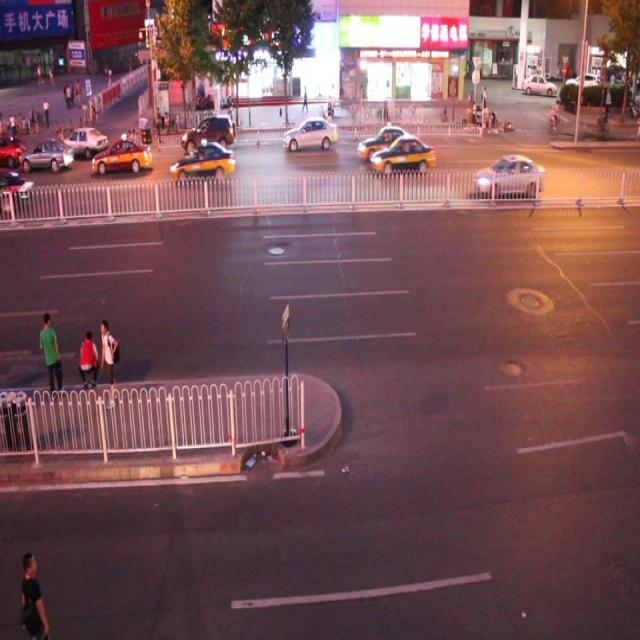car: (473, 153, 542, 200), (369, 136, 434, 174), (171, 144, 235, 182), (180, 115, 235, 154), (91, 139, 152, 174), (282, 115, 337, 152), (18, 139, 74, 173), (358, 124, 412, 158), (62, 125, 108, 159), (1, 132, 24, 168)
